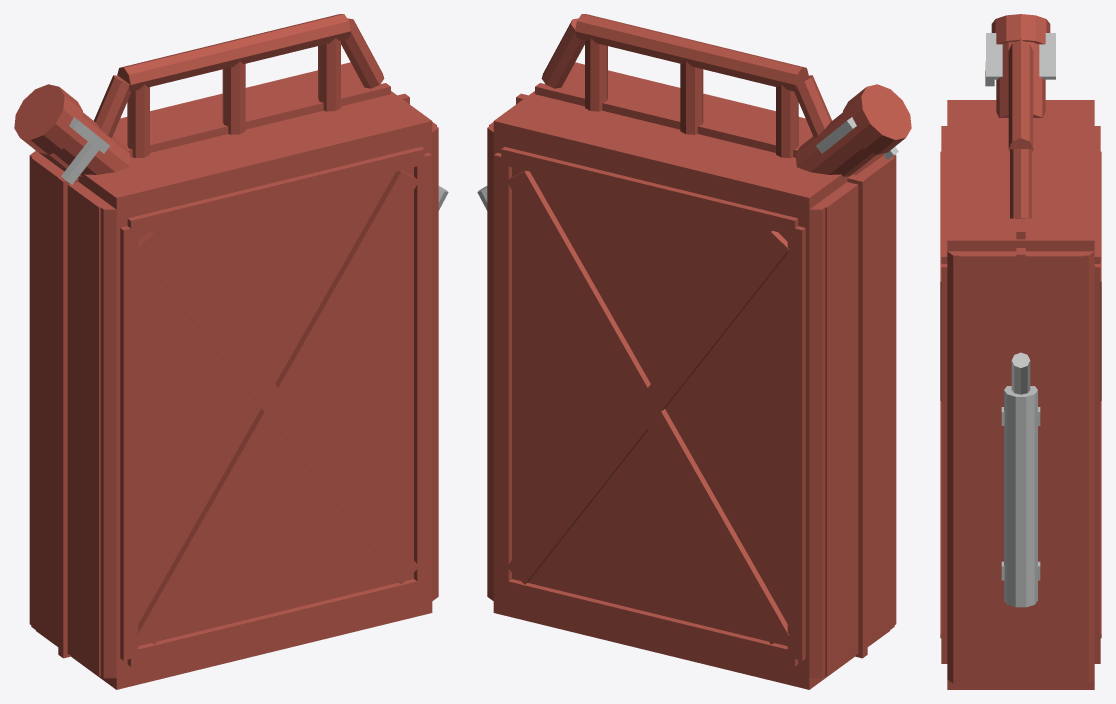
The model's file is canister.glb.
The picture shows the model from 3 angles, left to right: view 1: azimuth 30°, elevation 25°; view 2: azimuth 150°, elevation 25°; view 3: azimuth 270°, elevation 25°; orthographic projection. The views are drawn at different scales.
Visible parts, largest first — view 1: FuelCan; view 2: FuelCan; view 3: FuelCan.
Boxes of the visible parts, box(x1,y1,x2,y2) form: FuelCan: box(14, 14, 448, 689); FuelCan: box(477, 14, 911, 689); FuelCan: box(940, 14, 1101, 689).
Bounding box in the file's own units: 0.582 × 0.756 × 0.208.
